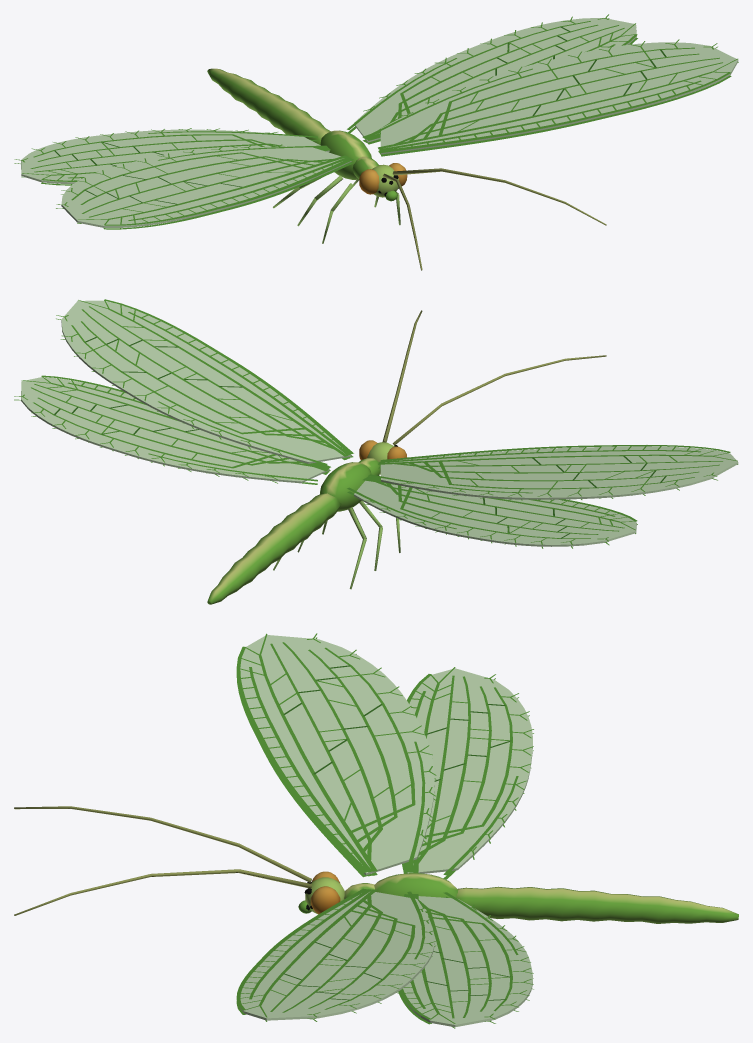
The model's file is GreenLacewing.fbx.
3 renders of one model, top to bottom at view 1: azimuth 30°, elevation 25°; view 2: azimuth 150°, elevation 25°; view 3: azimuth 270°, elevation 25°, orthographic. The views are drawn at different scales.
Visible parts, largest first — view 1: GreenLacewing; view 2: GreenLacewing; view 3: GreenLacewing.
Boxes of the visible parts, x1,y1,x2,y2 form: GreenLacewing: (14,14,738,270); GreenLacewing: (14,299,738,604); GreenLacewing: (14,633,738,1028).
Bounding box in the file's own units: 1.13 × 0.2122 × 0.9039.
